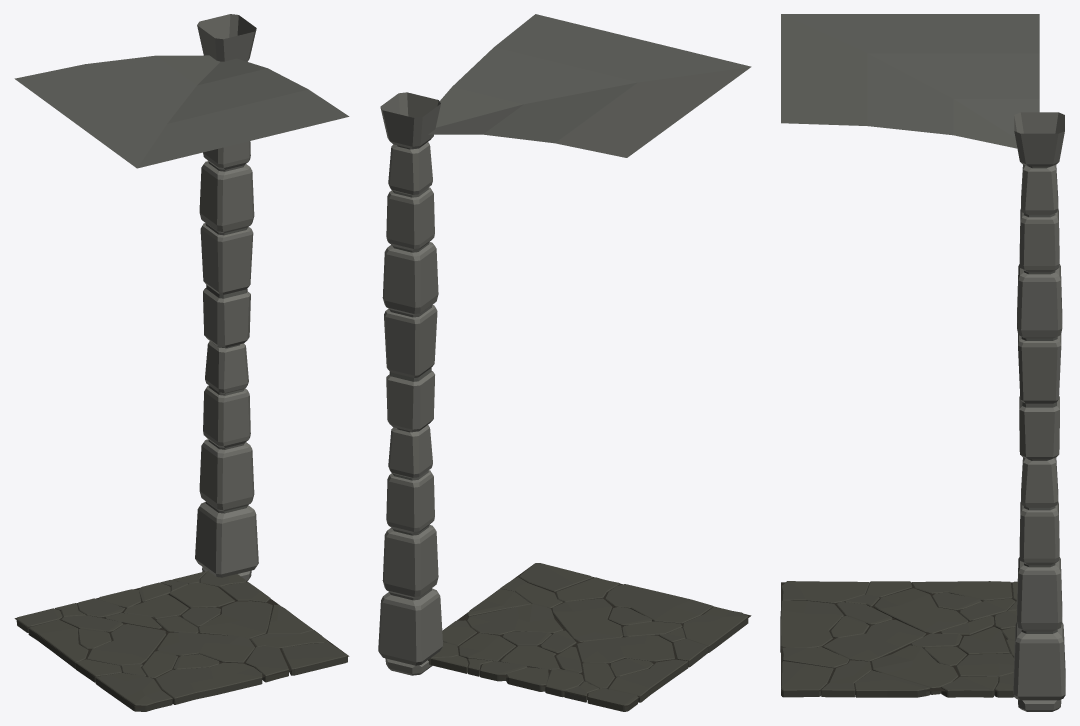
Rendered from Dungeon_Hall_Corner_Inverted.glb.
The picture shows the model from 3 angles, left to right: view 1: azimuth 30°, elevation 25°; view 2: azimuth 150°, elevation 25°; view 3: azimuth 270°, elevation 25°; orthographic projection. The views are drawn at different scales.
Visible parts, largest first — view 1: Dungeon_Hall_Corner_Inverted.001; view 2: Dungeon_Hall_Corner_Inverted.001; view 3: Dungeon_Hall_Corner_Inverted.001.
Part boxes in pixels (box(x1,y1,x2,y2)): Dungeon_Hall_Corner_Inverted.001: box(14, 14, 349, 711); Dungeon_Hall_Corner_Inverted.001: box(378, 14, 751, 711); Dungeon_Hall_Corner_Inverted.001: box(780, 14, 1065, 711).
Size of the model in its own units: 4.41 by 9.92 by 4.42.
2 materials, 2 textured.
